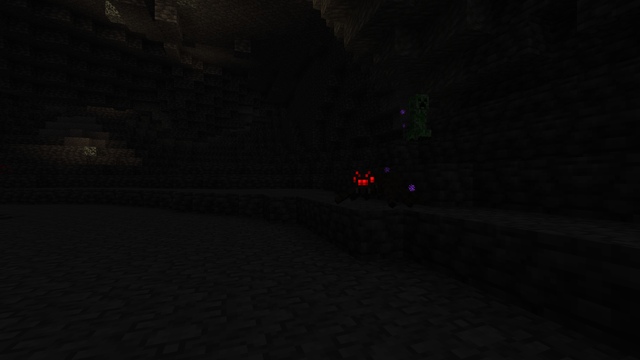araignees: (339, 166, 419, 208)
creepers: (405, 90, 430, 141)
